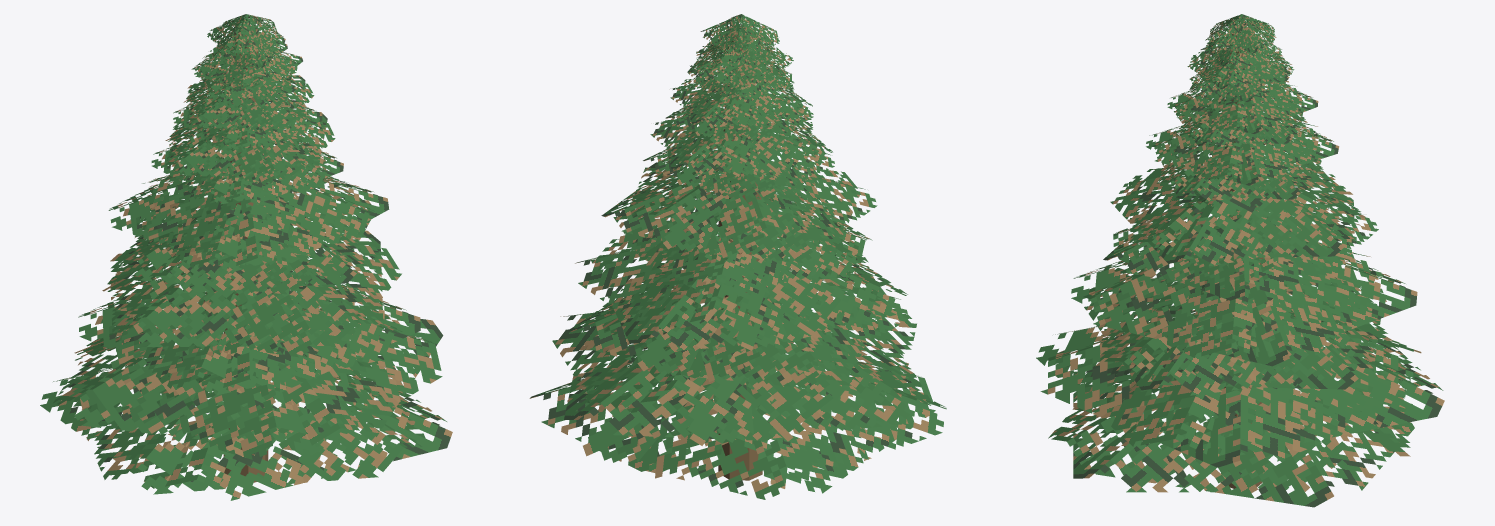
Rendered from Tree_0.fbx.
3 renders of one model, left to right at view 1: azimuth 30°, elevation 25°; view 2: azimuth 150°, elevation 25°; view 3: azimuth 270°, elevation 25°, orthographic.
Parts seen in each view (by area): view 1: Tree_0; view 2: Tree_0; view 3: Tree_0.
Boxes of the visible parts, <box> form: Tree_0: <box>40,14,452,500</box>; Tree_0: <box>529,14,946,499</box>; Tree_0: <box>1036,14,1444,507</box>.
Size of the model in its own units: 1541 by 1660 by 1541.
1 material, 1 textured.
